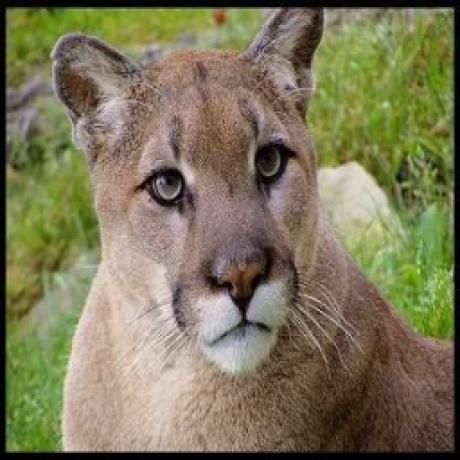Lion: (37, 6, 452, 448)
